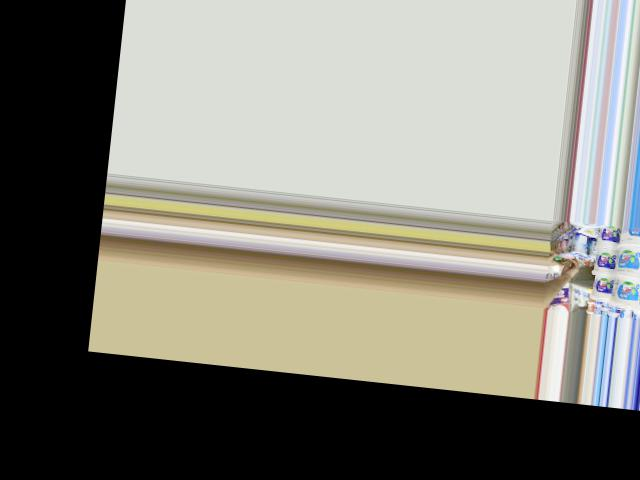cotage: (593, 246, 620, 277)
